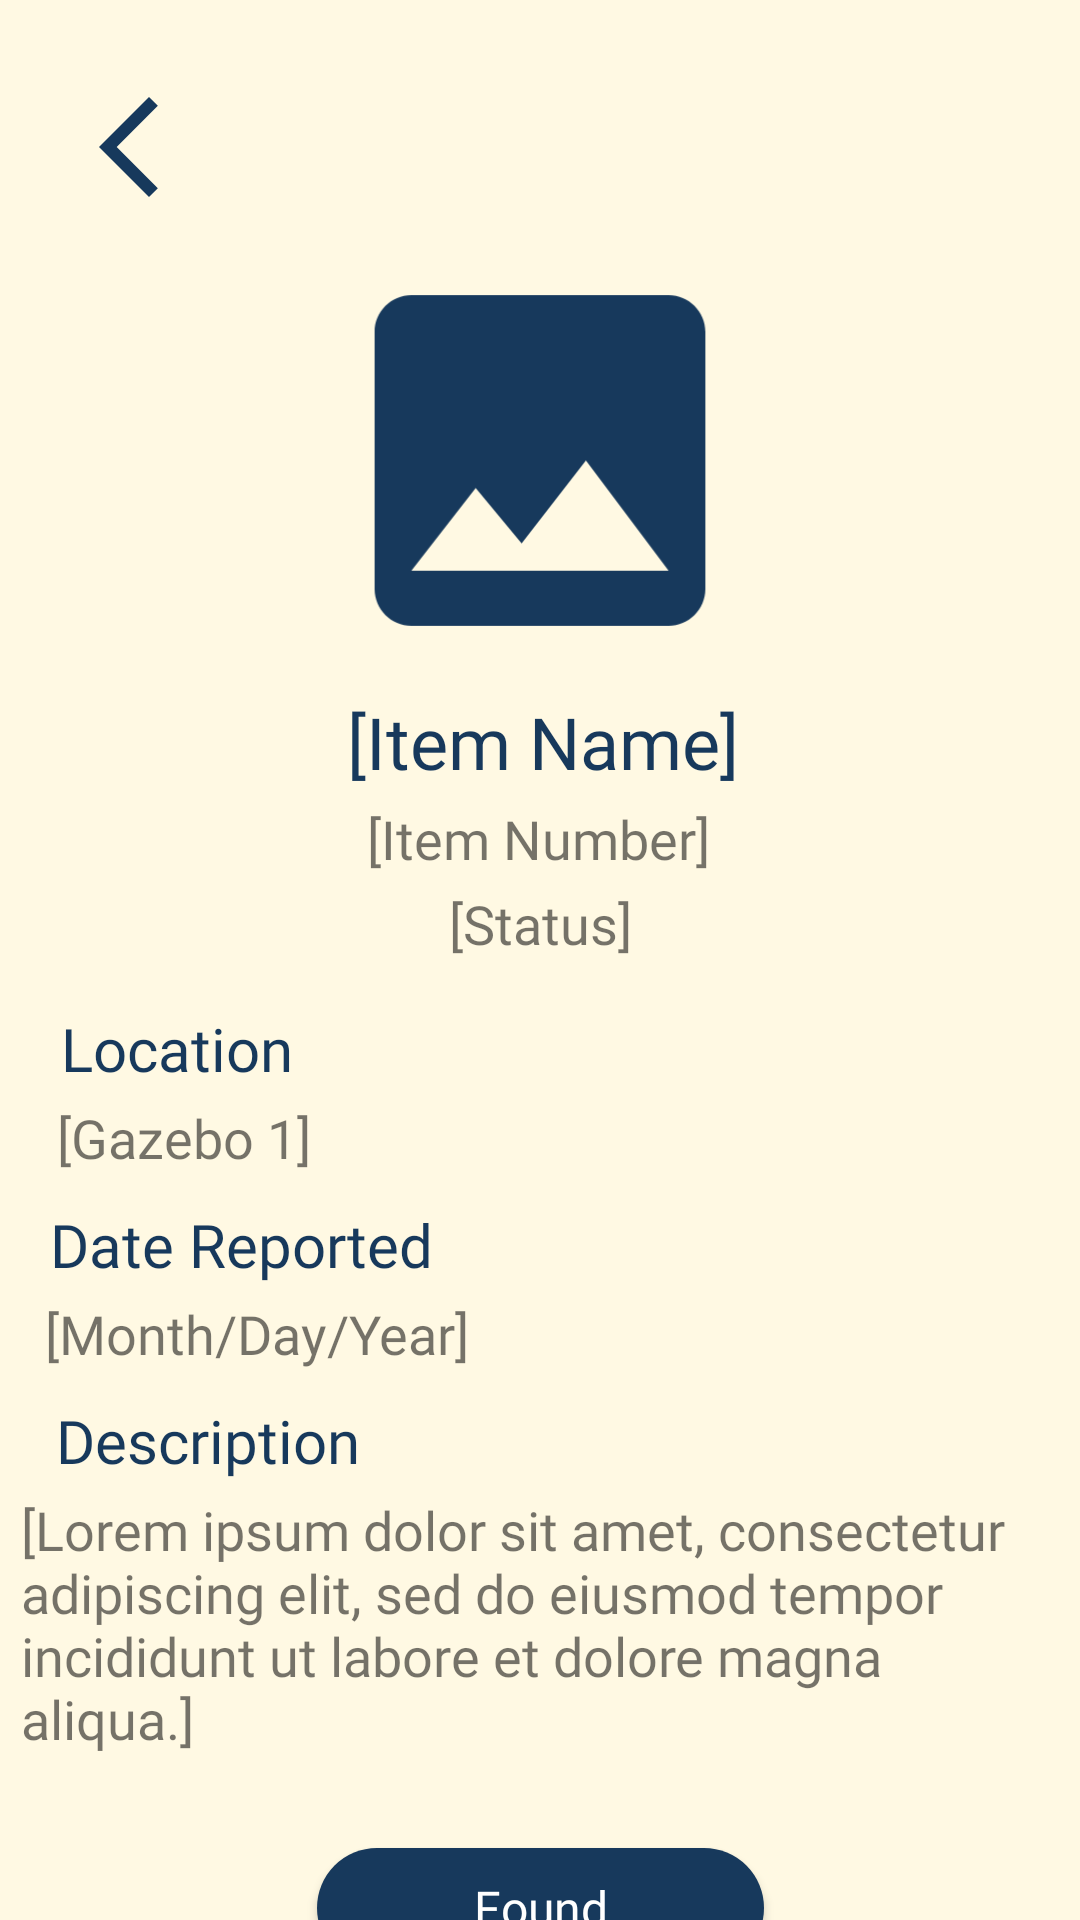

Screen size 1080px x 1920px. Icon name, then its center in pixels as [x,y]:
arrow back: [128,147]
